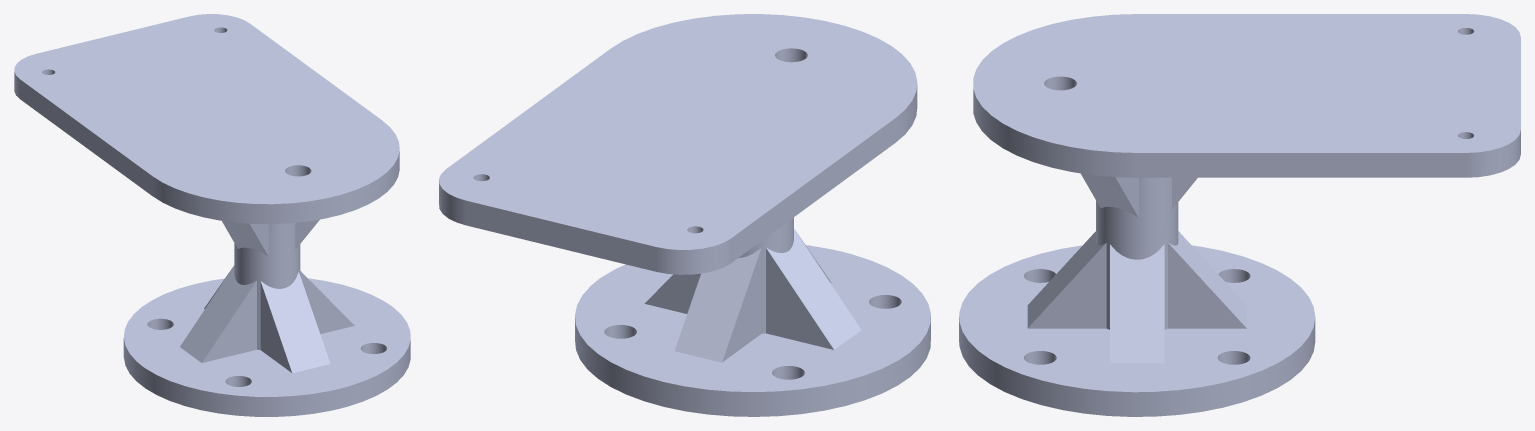
The model's file is adaptor_v1.glb.
The picture shows the model from 3 angles, left to right: view 1: azimuth 30°, elevation 25°; view 2: azimuth 150°, elevation 25°; view 3: azimuth 270°, elevation 25°; orthographic projection. The views are drawn at different scales.
Parts seen in each view (by area): view 1: adaptor_v1; view 2: adaptor_v1; view 3: adaptor_v1.
Part boxes in pixels (x1,y1,x2,y2): adaptor_v1: (14,14,410,416); adaptor_v1: (439,14,930,416); adaptor_v1: (959,14,1520,416).
Size of the model in its own units: 0.065 by 0.052 by 0.1025.
